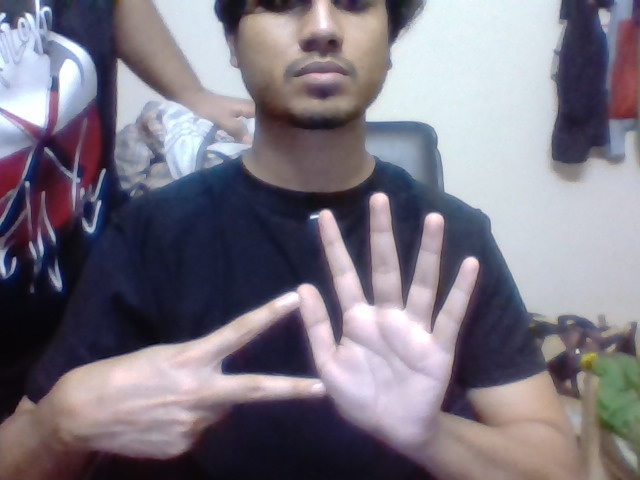N: (213, 287, 299, 409)
